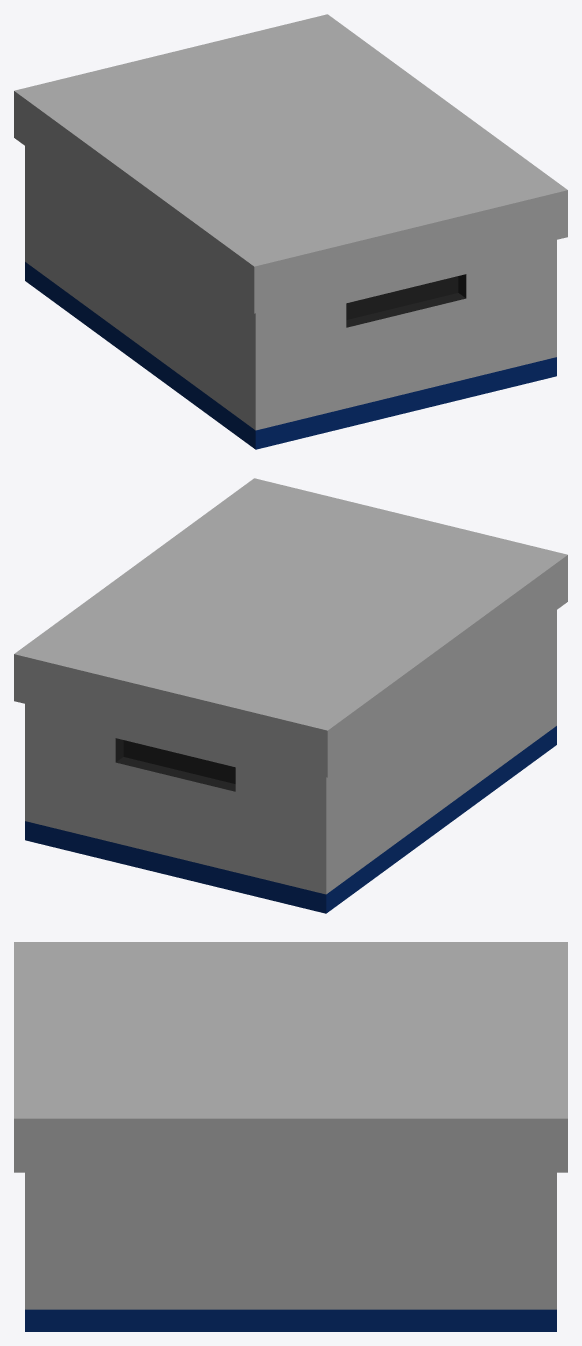
The model's file is BoxV1White.fbx.
The picture shows the model from 3 angles, top to bottom: view 1: azimuth 30°, elevation 25°; view 2: azimuth 150°, elevation 25°; view 3: azimuth 270°, elevation 25°; orthographic projection. The views are drawn at different scales.
Visible parts, largest first — view 1: BoxV1White; view 2: BoxV1White; view 3: BoxV1White.
Part boxes in pixels (x1,y1,x2,y2): BoxV1White: (14,14,567,449); BoxV1White: (14,478,567,913); BoxV1White: (14,942,567,1331).
Size of the model in its own units: 34.9 by 20 by 46.3.
